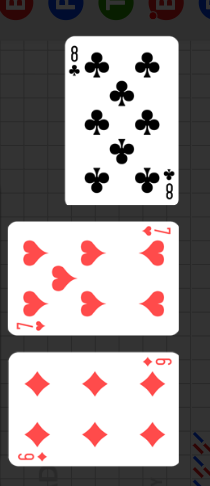6D: (16, 451, 49, 463)
7H: (141, 225, 173, 238)
8C: (68, 44, 82, 79)
